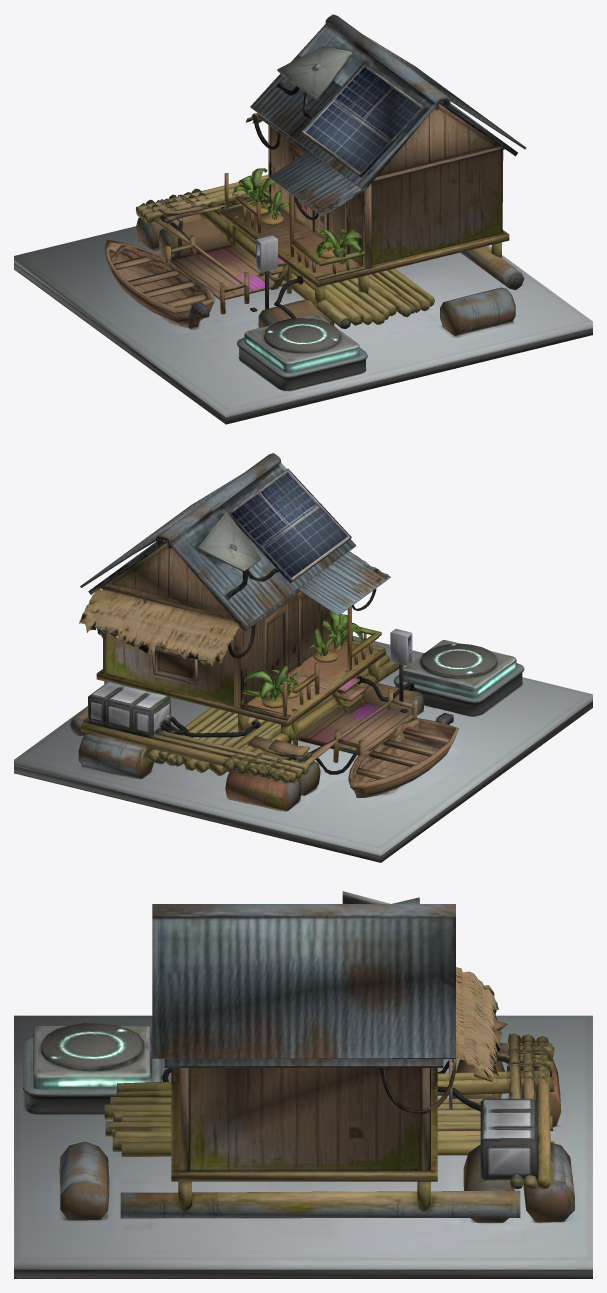
File: tonle_floating_house.glb
3 views of the same model, one above another, from view 1: azimuth 30°, elevation 25°; view 2: azimuth 150°, elevation 25°; view 3: azimuth 270°, elevation 25° (orthographic). The views are drawn at different scales.
Visible parts, largest first — view 1: Body; view 2: Body; view 3: Body.
Part boxes in pixels (left/top/right/bottom): Body: left=14, top=14, right=592, bottom=424; Body: left=14, top=453, right=592, bottom=862; Body: left=14, top=891, right=592, bottom=1278.
Bounding box in the file's own units: 10 × 5.89 × 10.
1 material, 1 textured.
